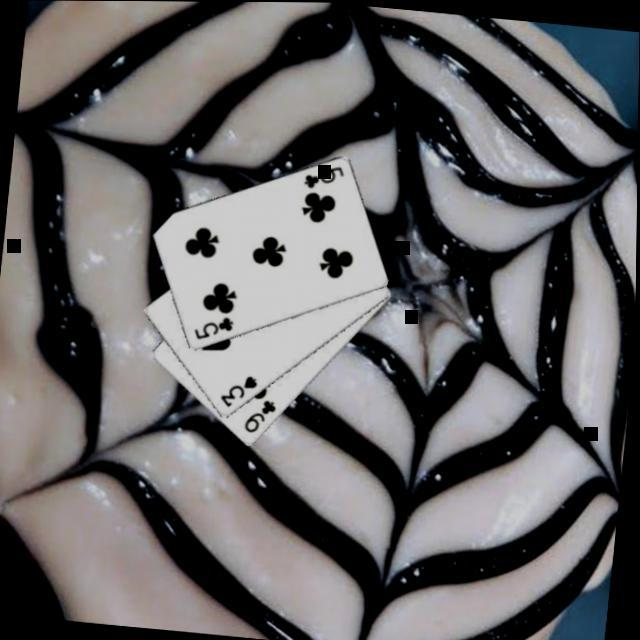3S: (219, 368, 263, 410)
5C: (192, 310, 238, 344), (301, 159, 347, 193)
9C: (242, 393, 282, 436)
